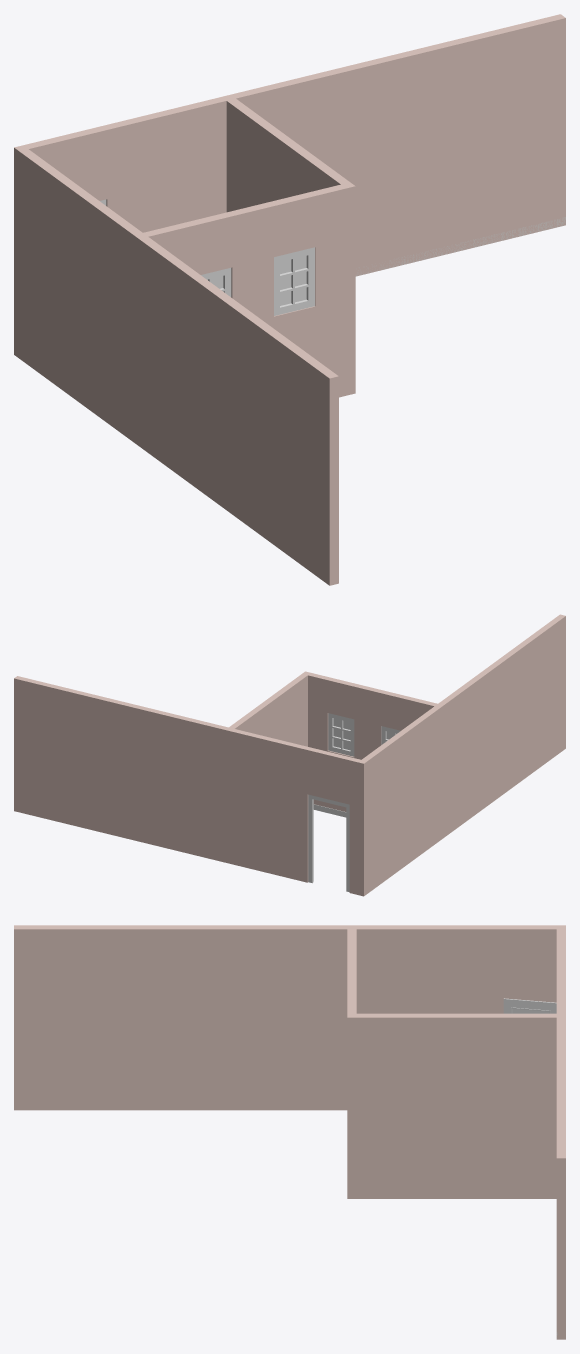
Rendered from WashRoom_iisc_robotics_challenge.dae.
3 views of the same model, one above another, from view 1: azimuth 30°, elevation 25°; view 2: azimuth 150°, elevation 25°; view 3: azimuth 270°, elevation 25° (orthographic). The views are drawn at different scales.
Visible parts, largest first — view 1: Room, Room.002, Room.001, Window, Baseboard.001; view 2: Room, Room.002, Room.001, Window, DoorFrame; view 3: Room.001, Room, Room.002, Door.
Part boxes in pixels (bbox=[...]): Room: bbox=[14, 94, 355, 445]; Room.002: bbox=[231, 14, 565, 276]; Room.001: bbox=[139, 237, 338, 585]; Window: bbox=[274, 247, 314, 315]; Baseboard.001: bbox=[356, 217, 565, 276]; Room: bbox=[225, 671, 443, 896]; Room.002: bbox=[14, 676, 228, 862]; Room.001: bbox=[438, 614, 565, 837]; Window: bbox=[328, 713, 354, 756]; DoorFrame: bbox=[308, 794, 349, 892]; Room.001: bbox=[14, 925, 347, 1110]; Room: bbox=[347, 925, 565, 1198]; Room.002: bbox=[556, 1017, 565, 1339]; Door: bbox=[503, 998, 556, 1013].
Size of the model in its own units: 8.28 by 8.28 by 3.
